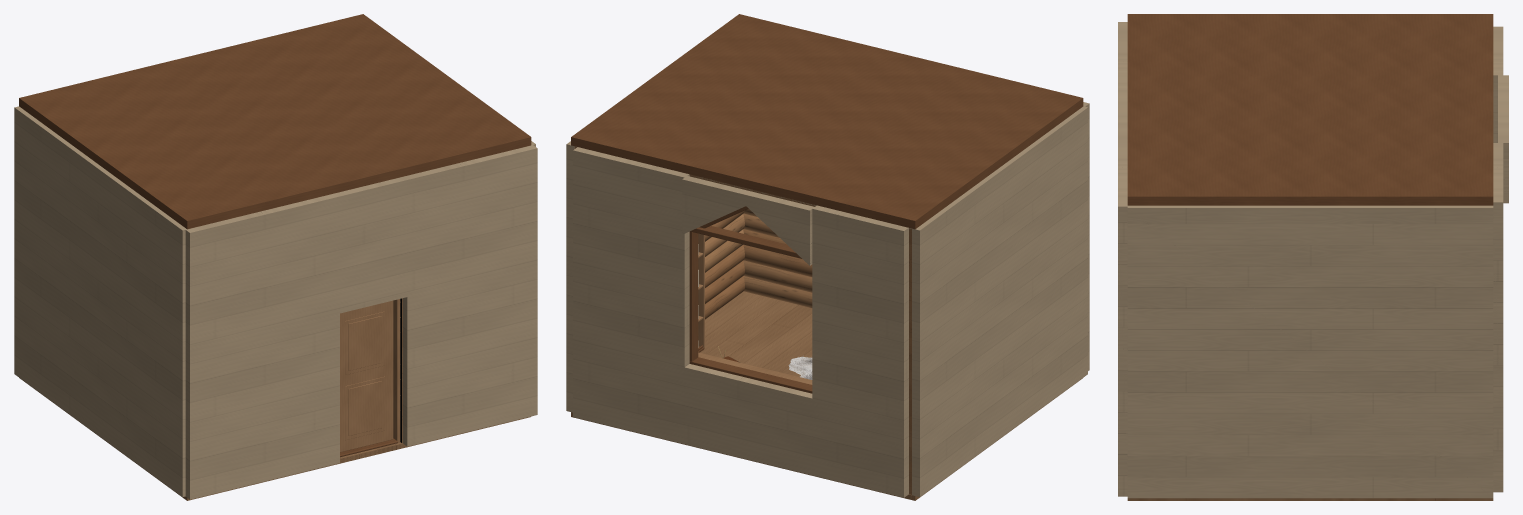
The model's file is woodland-study.glb.
The picture shows the model from 3 angles, left to right: view 1: azimuth 30°, elevation 25°; view 2: azimuth 150°, elevation 25°; view 3: azimuth 270°, elevation 25°; orthographic projection. The views are drawn at different scales.
Parts seen in each view (by area): view 1: Study_Ceiling, Study_SideWall, Study_DoorWall, Study_DoorWall.001, Study_DoorLintel, Door_Leaf, Door_Field_U_Inside, Door_Field_L_Inside, Door_Jamb_R, Study_Floor, Door_Panel_U_Inside, Door_Panel_L_Inside; view 2: Study_Ceiling, Study_SideWall, Study_WindowWallSide.001, Study_WindowWallSide, Study_WindowWallLow, Study_Floor, Study_TransomLeft, Study_TransomRight, Cabin_Door_Log, Study_SideWall.001, Cabin_Door_Log.002, Study_WindowJamb.001 (+7 smaller); view 3: Study_SideWall.001, Study_Ceiling, Study_WindowWallSide.001, Study_DoorWall.001, Study_Floor, Study_WindowWallSide, Study_DoorWall, Study_TransomRight.
Boxes of the visible parts, left/top/right/bottom form: Study_Ceiling: left=19, top=14, right=531, bottom=229; Study_SideWall: left=14, top=106, right=186, bottom=497; Study_DoorWall: left=185, top=193, right=339, bottom=499; Study_DoorWall.001: left=402, top=145, right=537, bottom=446; Study_DoorLintel: left=336, top=177, right=407, bottom=313; Door_Leaf: left=340, top=300, right=393, bottom=452; Door_Field_U_Inside: left=348, top=316, right=381, bottom=370; Door_Field_L_Inside: left=348, top=381, right=381, bottom=435; Door_Jamb_R: left=393, top=299, right=400, bottom=442; Study_Floor: left=19, top=378, right=530, bottom=500; Door_Panel_U_Inside: left=345, top=311, right=384, bottom=374; Door_Panel_L_Inside: left=345, top=376, right=384, bottom=440; Study_Ceiling: left=571, top=14, right=1083, bottom=229; Study_SideWall: left=912, top=106, right=1087, bottom=497; Study_WindowWallSide.001: left=573, top=147, right=689, bottom=444; Study_WindowWallSide: left=812, top=205, right=908, bottom=497; Study_WindowWallLow: left=684, top=364, right=812, bottom=475; Study_Floor: left=571, top=291, right=1082, bottom=500; Study_TransomLeft: left=746, top=191, right=814, bottom=265; Study_TransomRight: left=682, top=176, right=750, bottom=234; Cabin_Door_Log: left=743, top=260, right=812, bottom=307; Study_SideWall.001: left=566, top=141, right=574, bottom=412; Cabin_Door_Log.002: left=743, top=229, right=812, bottom=276; Study_WindowJamb.001: left=689, top=231, right=698, bottom=361; Study_SideWall.001: left=1127, top=205, right=1493, bottom=498; Study_Ceiling: left=1127, top=14, right=1493, bottom=205; Study_WindowWallSide.001: left=1493, top=143, right=1503, bottom=492; Study_DoorWall.001: left=1118, top=137, right=1127, bottom=496; Study_Floor: left=1127, top=498, right=1493, bottom=500; Study_WindowWallSide: left=1493, top=26, right=1503, bottom=142; Study_DoorWall: left=1118, top=22, right=1127, bottom=101; Study_TransomRight: left=1498, top=109, right=1508, bottom=203.
Bounding box in the file's own units: 5.34 × 4.04 × 4.7.
Materials: 27 (17 with a texture image).
